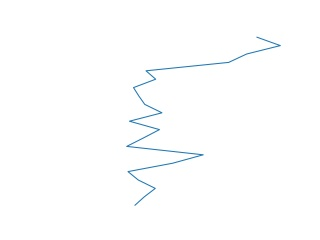crevasseRiverChannelBar: (122, 34, 284, 211)
